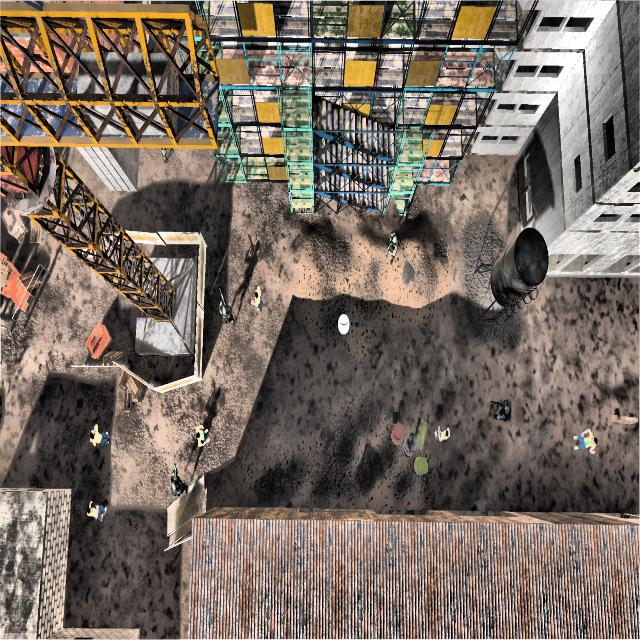bad: (487, 387, 518, 432), (215, 285, 239, 336), (163, 460, 189, 504), (380, 226, 404, 263)
good: (86, 412, 116, 457), (568, 421, 600, 458), (82, 491, 111, 530), (188, 416, 215, 450), (249, 275, 268, 320), (431, 415, 455, 448)
